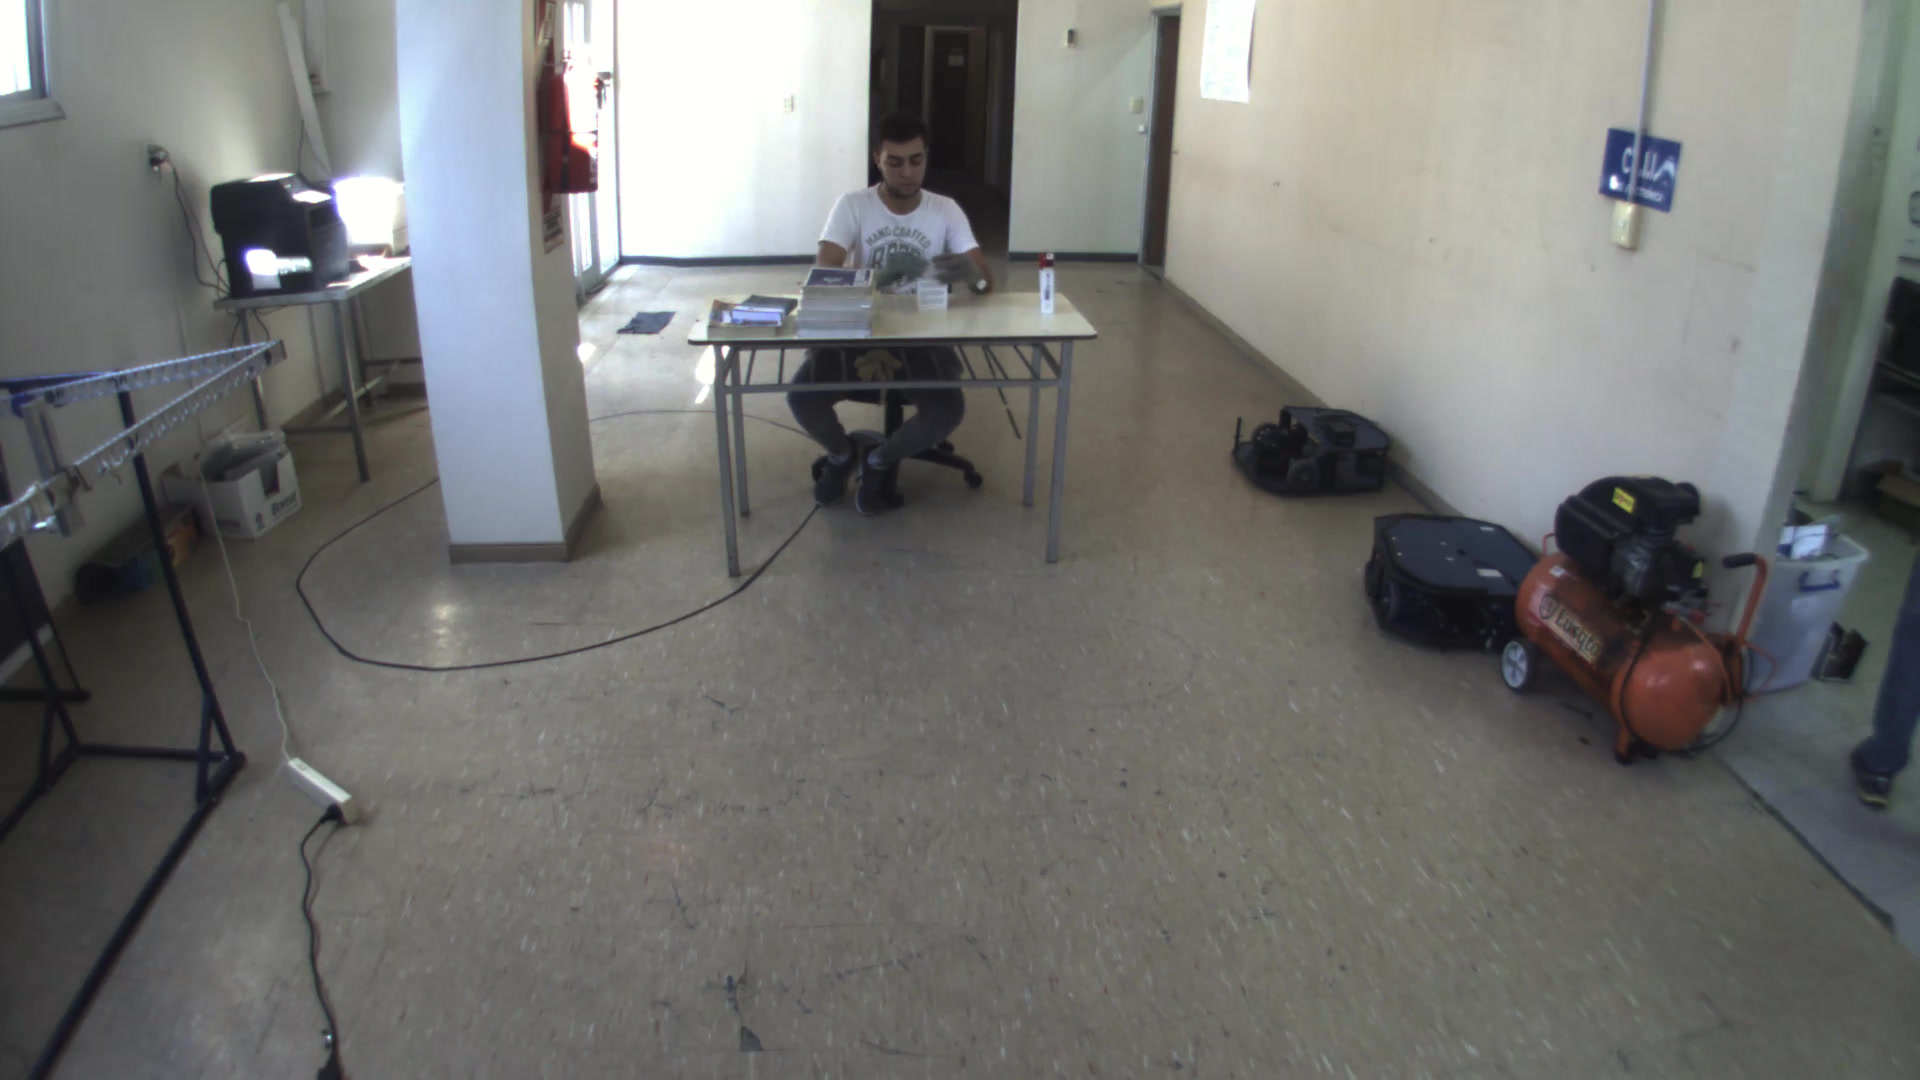hand: (870, 252, 928, 294), (930, 253, 986, 294)
